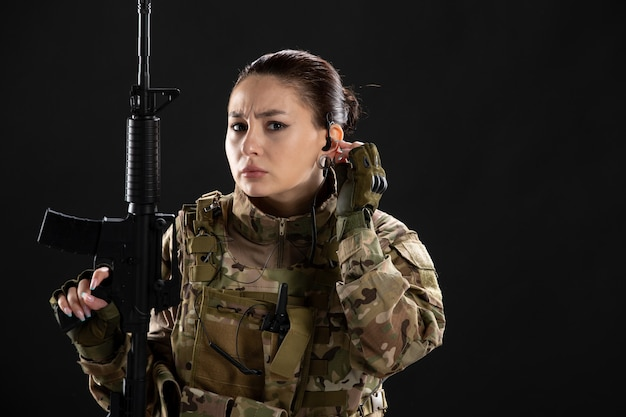gun: (39, 1, 182, 417)
